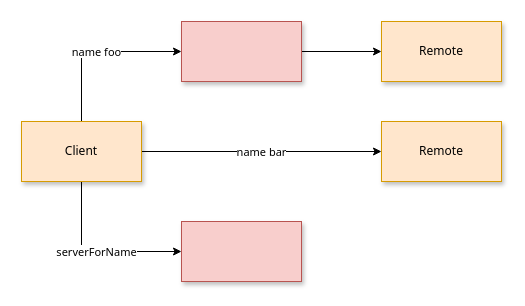
This 525x306 diagram has some shape labels left out. Here are the shapes that lost their labels. From the top down, the centre of each, then its label:
At [242,52]: "Proxy".
At [242,252]: "Registry".
